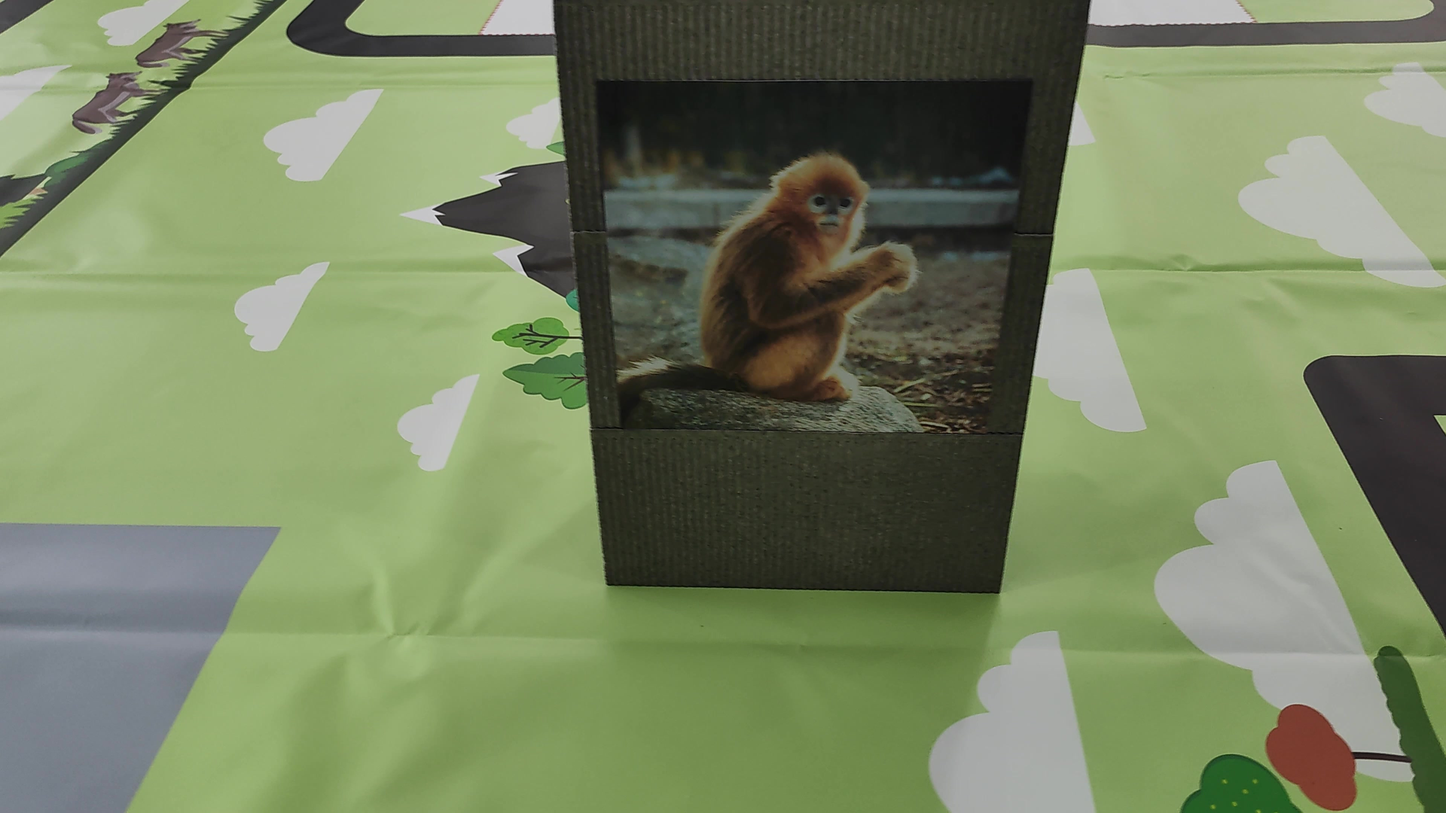monkey: (644, 110, 943, 419)
